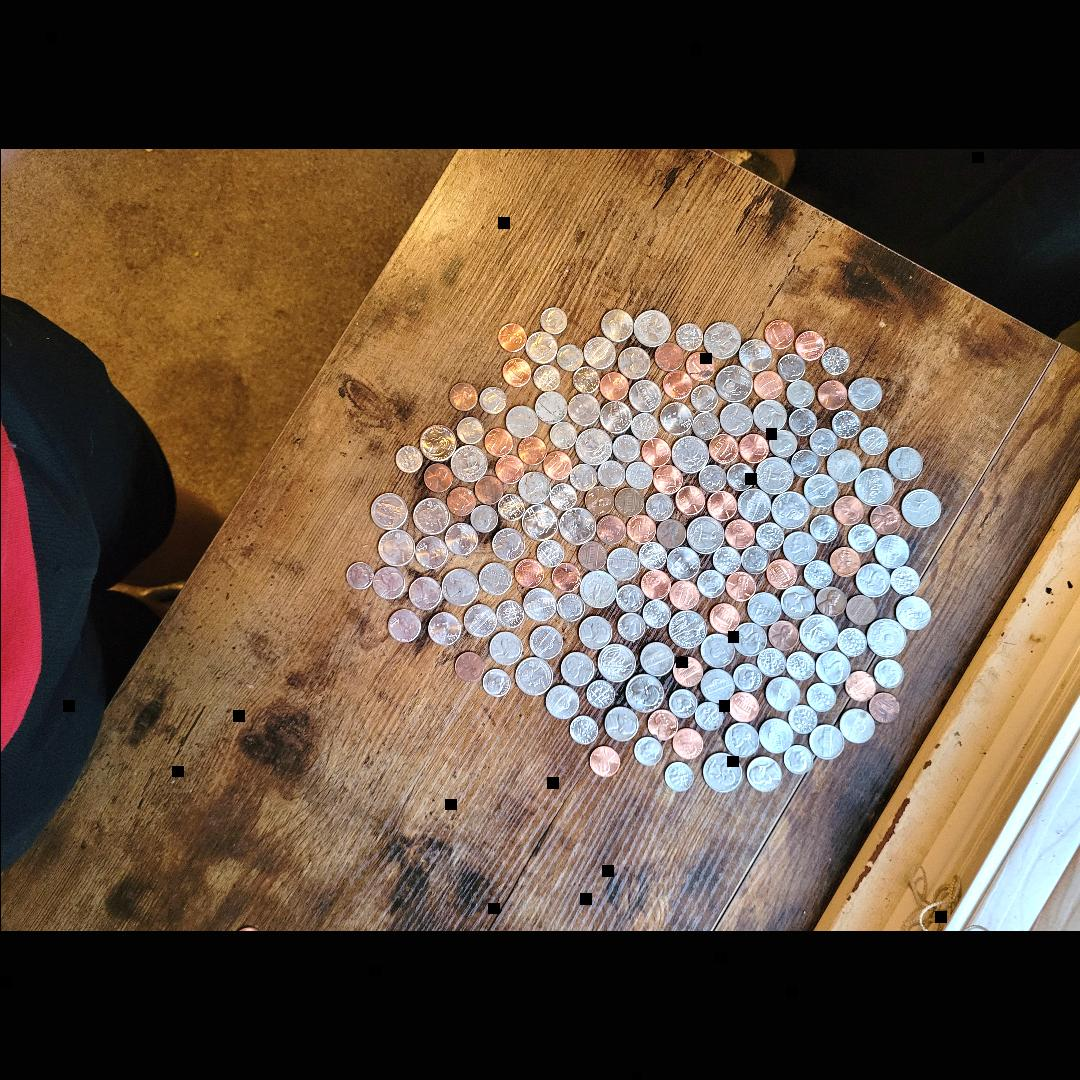Dime: (872, 659, 902, 689), (641, 600, 671, 628), (569, 715, 597, 745), (664, 762, 692, 792), (668, 690, 696, 720), (782, 746, 812, 774), (787, 705, 815, 735), (806, 684, 836, 712), (786, 650, 814, 680), (836, 628, 866, 656), (888, 567, 918, 595), (696, 570, 725, 598), (731, 664, 761, 691), (394, 446, 422, 474), (478, 386, 506, 414), (572, 366, 600, 394), (638, 543, 666, 571), (633, 738, 661, 766), (691, 412, 719, 440), (690, 385, 718, 413), (740, 547, 768, 575), (756, 649, 784, 677), (790, 450, 818, 478), (808, 428, 836, 456), (788, 408, 816, 436), (821, 347, 849, 375), (832, 411, 860, 439), (847, 524, 875, 552), (674, 324, 703, 351), (694, 704, 724, 730), (857, 428, 887, 454), (346, 562, 373, 590), (482, 670, 510, 697), (495, 601, 523, 628), (596, 460, 623, 488), (631, 412, 658, 440), (585, 681, 613, 708), (769, 430, 796, 458), (786, 380, 813, 408), (777, 355, 804, 383), (726, 464, 755, 490), (536, 540, 564, 566), (548, 484, 576, 510), (548, 422, 576, 448), (570, 464, 596, 492), (612, 434, 638, 462), (645, 494, 673, 520), (615, 586, 643, 612), (616, 614, 644, 640), (712, 548, 740, 574), (755, 524, 783, 550), (804, 562, 832, 588), (810, 516, 838, 542), (455, 418, 482, 444), (532, 365, 559, 391), (625, 462, 652, 488), (698, 466, 724, 493), (470, 506, 497, 532), (497, 495, 523, 521), (540, 308, 566, 334), (556, 344, 582, 370), (556, 594, 582, 620)
Nickel: (814, 650, 850, 686), (808, 724, 844, 760), (838, 708, 874, 744), (744, 758, 782, 792), (782, 531, 818, 565), (758, 718, 792, 754), (700, 668, 734, 704), (745, 592, 781, 626), (854, 564, 890, 598), (896, 595, 930, 630), (638, 642, 674, 675), (604, 706, 637, 742), (802, 474, 836, 508), (780, 586, 814, 620), (700, 634, 734, 668), (732, 623, 766, 657), (718, 402, 752, 436), (752, 399, 786, 433), (477, 562, 511, 596), (765, 677, 799, 711), (826, 449, 860, 483), (886, 448, 922, 480), (560, 652, 593, 686), (522, 588, 554, 623), (723, 723, 757, 755), (665, 547, 699, 579), (736, 489, 770, 521), (737, 340, 771, 372), (534, 391, 566, 425), (544, 686, 578, 718), (462, 605, 496, 637), (443, 524, 477, 556), (412, 537, 446, 569), (488, 633, 522, 665), (578, 617, 612, 649), (492, 528, 524, 562), (875, 536, 909, 568), (658, 404, 694, 434), (606, 546, 638, 579), (628, 380, 660, 412), (599, 401, 631, 433), (600, 309, 632, 341), (529, 626, 561, 658), (372, 567, 404, 599), (408, 578, 440, 610), (388, 610, 420, 642), (428, 612, 460, 644), (517, 472, 549, 504), (567, 394, 599, 426), (848, 378, 880, 410), (582, 337, 614, 368), (505, 406, 537, 437), (617, 348, 649, 378)
Penny: (639, 568, 671, 600), (764, 560, 797, 590), (868, 504, 900, 534), (706, 434, 738, 464), (708, 602, 740, 632), (670, 728, 702, 758), (588, 746, 620, 776), (672, 656, 702, 688), (868, 693, 900, 723), (576, 540, 608, 570), (725, 572, 756, 602), (845, 595, 875, 625), (816, 380, 846, 410), (794, 330, 824, 360), (768, 620, 798, 650), (728, 692, 758, 722), (646, 710, 676, 740), (668, 580, 698, 610), (613, 487, 643, 517), (514, 558, 544, 588), (684, 352, 716, 380), (473, 476, 503, 505), (594, 516, 625, 544), (816, 586, 844, 616), (832, 495, 862, 523), (752, 371, 782, 399), (707, 491, 735, 521), (724, 520, 754, 548), (656, 520, 684, 550), (625, 515, 655, 543), (674, 487, 704, 515), (640, 437, 670, 465), (662, 370, 692, 398), (584, 486, 612, 516), (598, 372, 628, 400), (448, 383, 478, 411), (494, 455, 524, 483), (844, 672, 874, 700), (829, 548, 858, 576), (763, 320, 792, 348), (454, 653, 483, 681), (446, 487, 475, 515), (653, 342, 683, 369), (739, 435, 767, 463), (653, 465, 681, 493), (552, 564, 580, 592), (423, 463, 451, 491), (484, 428, 512, 456), (542, 452, 570, 480), (501, 358, 529, 386), (497, 323, 525, 351), (518, 437, 546, 464)
Quarter: (702, 753, 741, 793), (854, 468, 894, 506), (867, 620, 905, 659), (901, 489, 939, 527), (597, 644, 635, 682), (670, 436, 708, 473), (450, 445, 487, 483), (798, 616, 837, 652), (668, 610, 705, 647), (754, 458, 792, 494), (772, 492, 808, 530), (714, 366, 752, 402), (703, 323, 741, 359), (574, 428, 612, 464), (625, 674, 663, 710), (515, 658, 551, 696), (442, 568, 478, 606), (558, 508, 595, 544), (687, 517, 723, 553), (633, 310, 669, 346), (579, 572, 615, 608), (377, 530, 413, 566), (370, 494, 406, 530), (413, 498, 449, 534), (522, 504, 558, 540), (418, 426, 455, 461)
